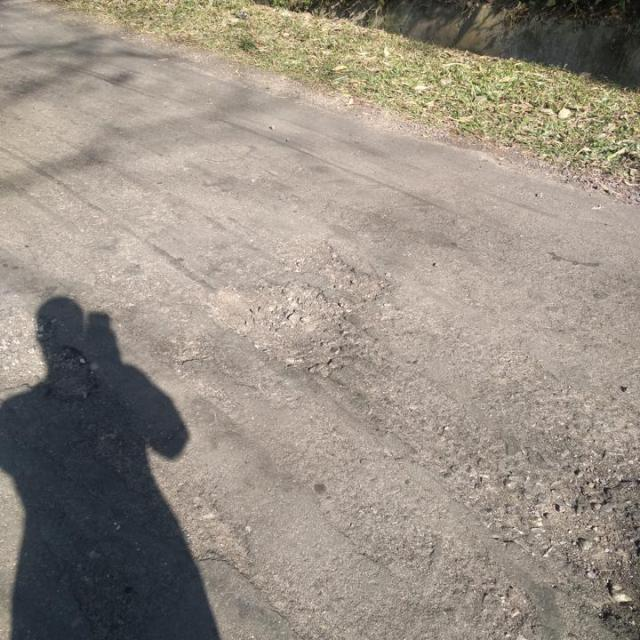Pothole: (207, 281, 358, 379), (533, 488, 640, 598), (287, 239, 394, 301)
